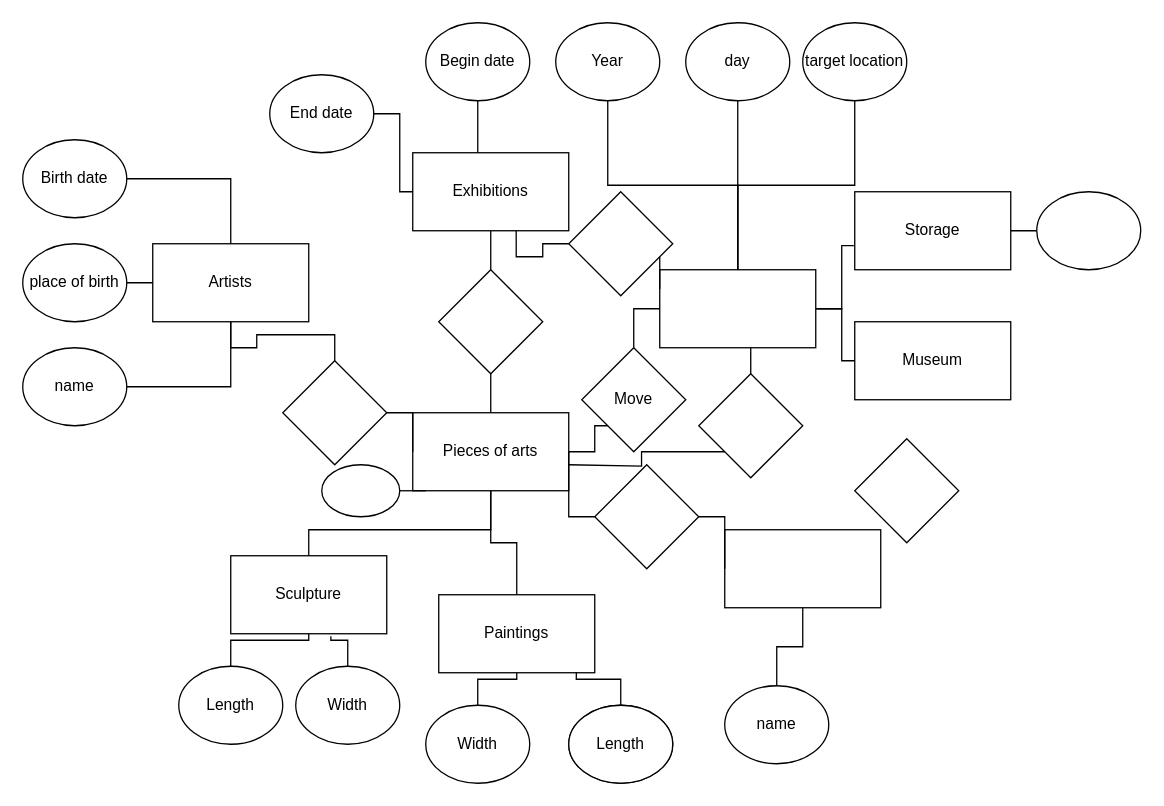
Some shapes in this 1164 by 806 pixel diagram are drawn without their labels. Each missing label, with the centre of its shape:
Associate: the point at 906,490
Collection: the point at 802,568
Contains: the point at 646,516
Creator: the point at 334,412
include: the point at 750,425
is part of: the point at 490,321
Locations: the point at 737,308
storage size: the point at 1088,230
Take place: the point at 620,243
when created: the point at 360,490
